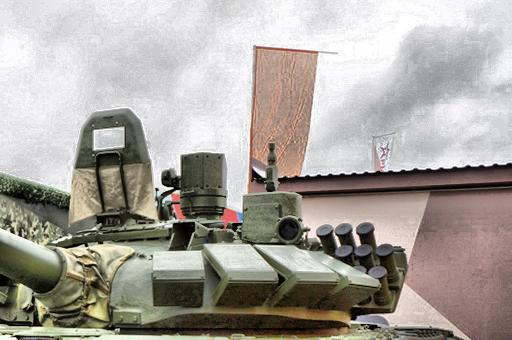tanks: (1, 113, 466, 340)
